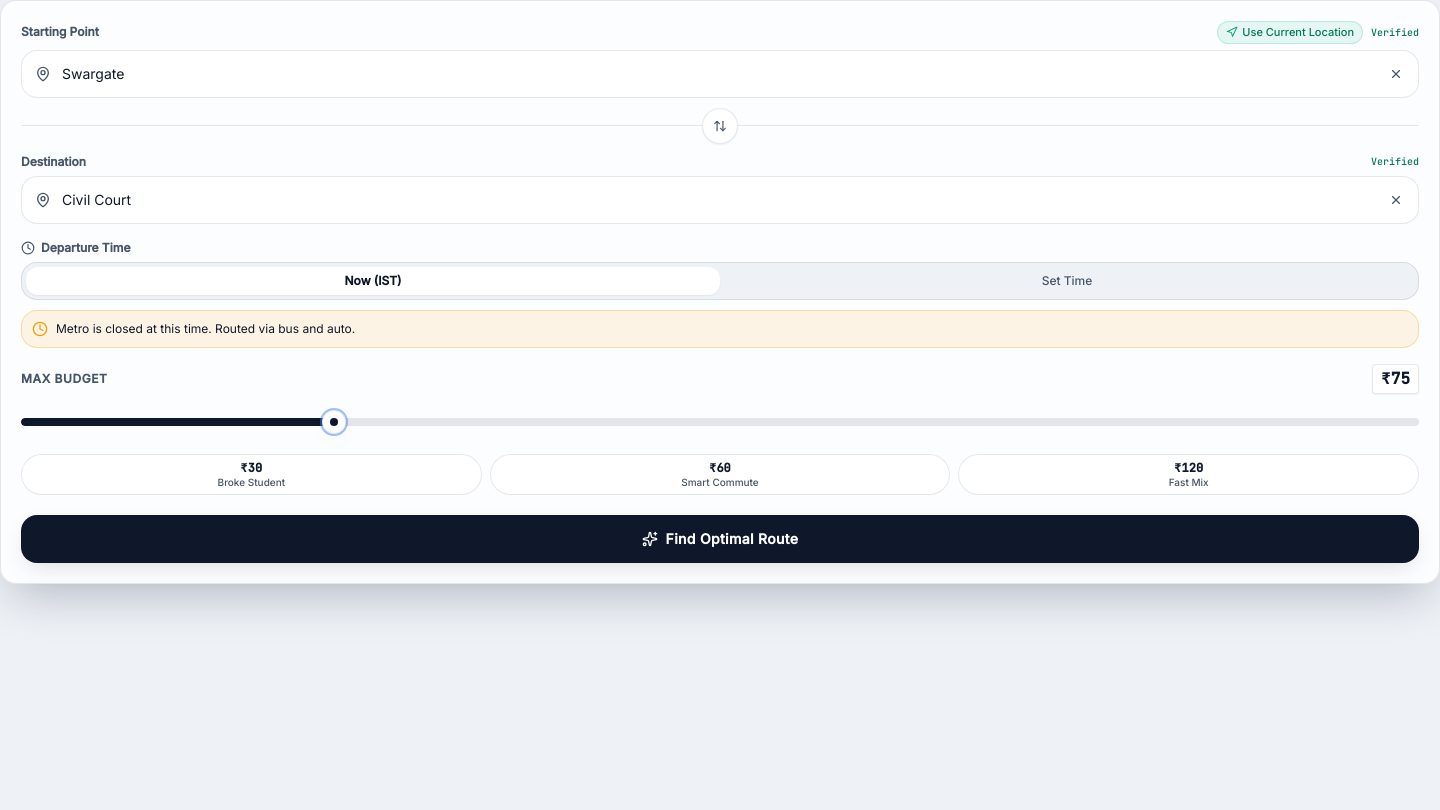
Test case: Dock Component › handles 400 Bad Request with problem+json message
Click the button "Find Optimal Route". click: (720, 539)
box: [21,515,1419,563]
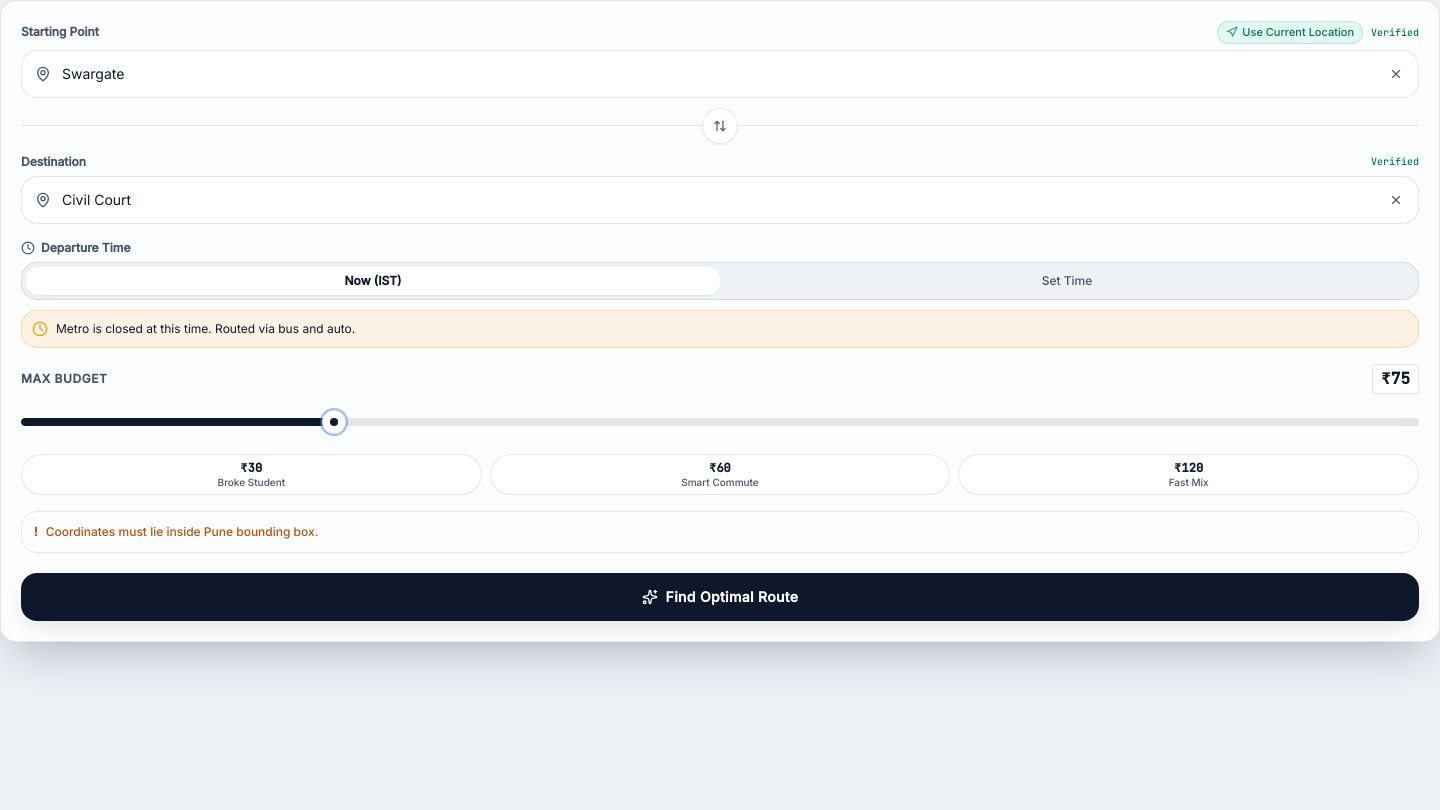
Result: the text "Coordinates must lie inside Pune bounding box." is shown at [46,524,318,540]
